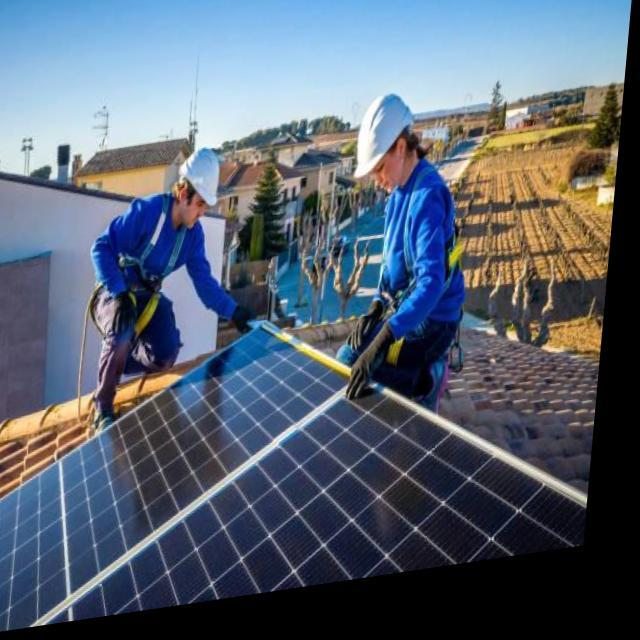belt: (380, 164, 485, 354), (96, 191, 196, 306)
